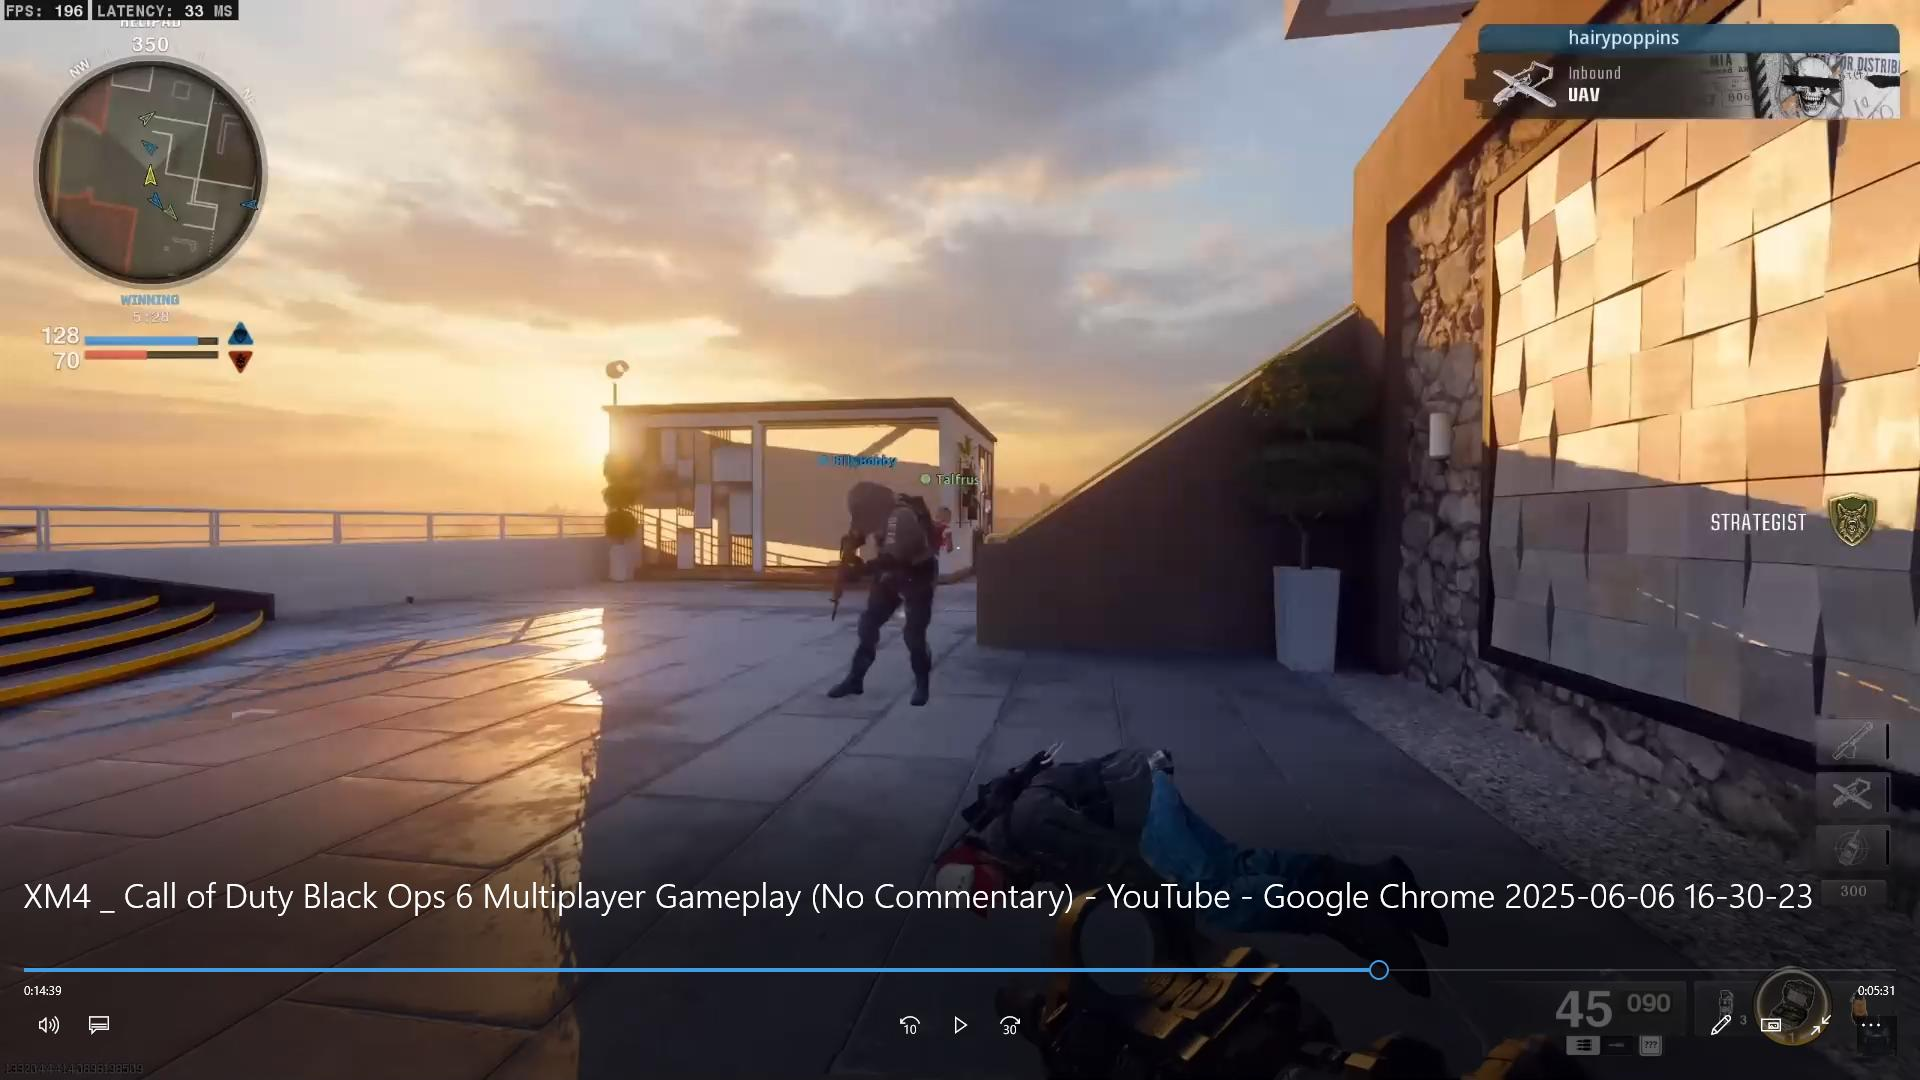Enemy: (833, 473, 932, 709)
